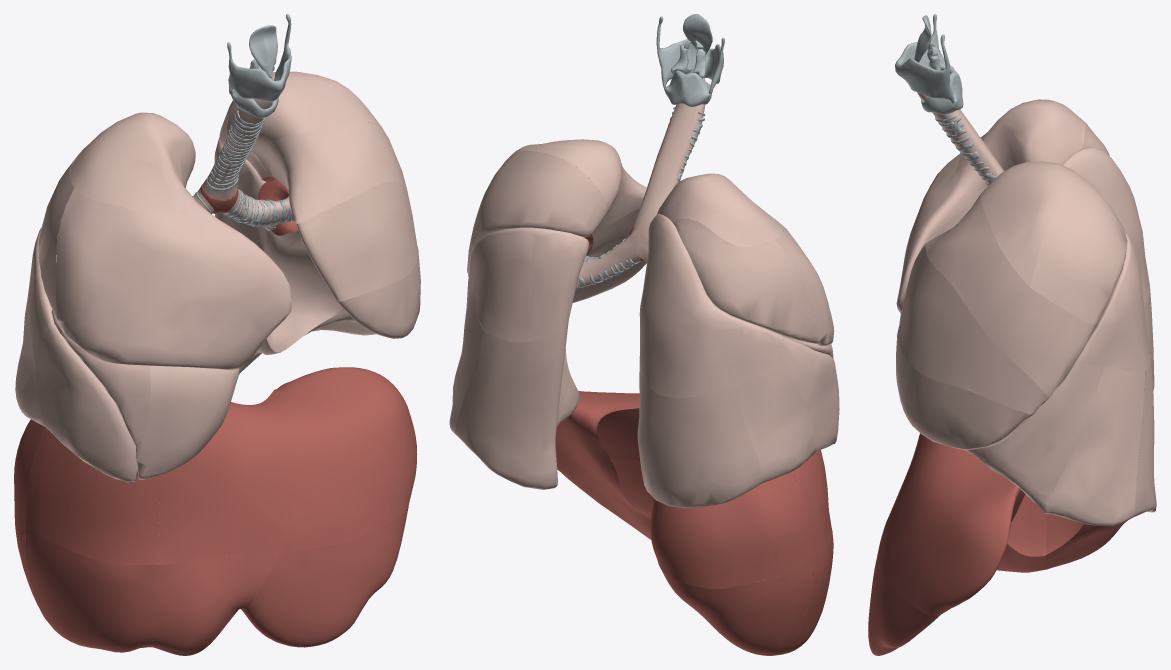
The model's file is adult_female.respiratory.LOD1.glb.
The picture shows the model from 3 angles, left to right: view 1: azimuth 30°, elevation 25°; view 2: azimuth 150°, elevation 25°; view 3: azimuth 270°, elevation 25°; orthographic projection. The views are drawn at different scales.
Parts seen in each view (by area): view 1: ADULT.FEMALE.RESPIRATORY.ANTERIOR_BRONCHOPULMONARY_SEGM.R, ADULT.FEMALE.RESPIRATORY.SUPEROMEDIAL_SEGMENT.L, ADULT.FEMALE.RESPIRATORY.SUPEROMEDIAL_SEGMENT1.L, ADULT.FEMALE.RESPIRATORY.ANTEROSUPERIOR_SEGMENT.R, ADULT.FEMALE.RESPIRATORY.ANTEROLATERAL_SEGMENT.L, ADULT.FEMALE.RESPIRATORY.ANTEROINFERIOR_SEGMENT.R, ADULT.FEMALE.RESPIRATORY.ANTERIOR_BASAL_BRONCHOPULMONARY_SEG, ADULT.FEMALE.RESPIRATORY.LINGULA_SUPERIOR_BRONCHOPULMONARY_S, ADULT.FEMALE.RESPIRATORY.APICAL_BRONCHOPULMONARY_SEGMENT.R, ADULT.FEMALE.RESPIRATORY.ANTERIOR_BRONCHOPULMONARY_SEGMENT.L, ADULT.FEMALE.RESPIRATORY.INFEROMEDIAL_SEGMENT.L, ADULT.FEMALE.RESPIRATORY.MEDIAL_BRONCHOPULMONARY_SEGMENT.R (+16 smaller); view 2: ADULT.FEMALE.RESPIRATORY.POSTERIOR_BASAL_BRONCHOPULMONARY_SE (×2), ADULT.FEMALE.RESPIRATORY.POSTERIOR_BRONCHOPULMONARY_SEGMENT. (×2), ADULT.FEMALE.RESPIRATORY.SUPERIOR_BRONCHOPULMONARY_SEGMENT.R, ADULT.FEMALE.RESPIRATORY.POSTEROSUPERIOR_SEGMENT.R, ADULT.FEMALE.RESPIRATORY.SUPERIOR_BRONCHOPULMONARY_SEGMENT.L, ADULT.FEMALE.RESPIRATORY.LATERAL_BASAL_BRONCHOPULMONARY_SEGM (×2), ADULT.FEMALE.RESPIRATORY.POSTEROINFERIOR_SEGMENT.R, ADULT.FEMALE.RESPIRATORY.SUPEROMEDIAL_SEGMENT.L, ADULT.FEMALE.RESPIRATORY.APICAL_BRONCHOPULMONARY_SEGMENT.R, ADULT.FEMALE.RESPIRATORY.ANTERIOR_BASAL_BRONCHOPULMONARY_SEG, ADULT.FEMALE.RESPIRATORY.TRACHEA, ADULT.FEMALE.RESPIRATORY.ANTEROLATERAL_SEGMENT.L (+11 smaller); view 3: ADULT.FEMALE.RESPIRATORY.SUPEROMEDIAL_SEGMENT.L, ADULT.FEMALE.RESPIRATORY.ANTERIOR_BRONCHOPULMONARY_SEGMENT.L, ADULT.FEMALE.RESPIRATORY.LINGULA_SUPERIOR_BRONCHOPULMONARY_S, ADULT.FEMALE.RESPIRATORY.LATERAL_BASAL_BRONCHOPULMONARY_SEGM, ADULT.FEMALE.RESPIRATORY.POSTERIOR_BRONCHOPULMONARY_SEGMENT., ADULT.FEMALE.RESPIRATORY.ANTERIOR_BASAL_BRONCHOPULMONARY_SEG, ADULT.FEMALE.RESPIRATORY.LINGULA_INFERIOR_BRONCHOPULMONARY_S, ADULT.FEMALE.RESPIRATORY.APICAL_BRONCHOPULMONARY_SEGMENT.L, ADULT.FEMALE.RESPIRATORY.APICAL_BRONCHOPULMONARY_SEGMENT.R, ADULT.FEMALE.RESPIRATORY.SUPERIOR_BRONCHOPULMONARY_SEGMENT.L, ADULT.FEMALE.RESPIRATORY.ANTERIOR_BRONCHOPULMONARY_SEGM.R, ADULT.FEMALE.RESPIRATORY.SUPERIOR_BRONCHOPULMONARY_SEGMENT.R (+10 smaller).
Boxes of the visible parts, x1=… form: ADULT.FEMALE.RESPIRATORY.ANTERIOR_BRONCHOPULMONARY_SEGM.R: x1=55, y1=187, x2=292, y2=369; ADULT.FEMALE.RESPIRATORY.SUPEROMEDIAL_SEGMENT.L: x1=268, y1=367, x2=417, y2=550; ADULT.FEMALE.RESPIRATORY.SUPEROMEDIAL_SEGMENT1.L: x1=156, y1=398, x2=305, y2=565; ADULT.FEMALE.RESPIRATORY.ANTEROSUPERIOR_SEGMENT.R: x1=26, y1=427, x2=159, y2=565; ADULT.FEMALE.RESPIRATORY.ANTEROLATERAL_SEGMENT.L: x1=241, y1=509, x2=407, y2=647; ADULT.FEMALE.RESPIRATORY.ANTEROINFERIOR_SEGMENT.R: x1=25, y1=524, x2=157, y2=652; ADULT.FEMALE.RESPIRATORY.ANTERIOR_BASAL_BRONCHOPULMONARY_SEG: x1=29, y1=272, x2=137, y2=482; ADULT.FEMALE.RESPIRATORY.LINGULA_SUPERIOR_BRONCHOPULMONARY_S: x1=295, y1=181, x2=418, y2=302; ADULT.FEMALE.RESPIRATORY.APICAL_BRONCHOPULMONARY_SEGMENT.R: x1=69, y1=112, x2=195, y2=214; ADULT.FEMALE.RESPIRATORY.ANTERIOR_BRONCHOPULMONARY_SEGMENT.L: x1=268, y1=122, x2=406, y2=223; ADULT.FEMALE.RESPIRATORY.INFEROMEDIAL_SEGMENT.L: x1=142, y1=550, x2=281, y2=655; ADULT.FEMALE.RESPIRATORY.MEDIAL_BRONCHOPULMONARY_SEGMENT.R: x1=135, y1=365, x2=239, y2=479; ADULT.FEMALE.RESPIRATORY.POSTERIOR_BASAL_BRONCHOPULMONARY_SE (×2): x1=455, y1=320, x2=762, y2=507; ADULT.FEMALE.RESPIRATORY.POSTERIOR_BRONCHOPULMONARY_SEGMENT. (×2): x1=472, y1=150, x2=820, y2=343; ADULT.FEMALE.RESPIRATORY.SUPERIOR_BRONCHOPULMONARY_SEGMENT.R: x1=639, y1=214, x2=783, y2=397; ADULT.FEMALE.RESPIRATORY.POSTEROSUPERIOR_SEGMENT.R: x1=650, y1=472, x2=812, y2=588; ADULT.FEMALE.RESPIRATORY.SUPERIOR_BRONCHOPULMONARY_SEGMENT.L: x1=469, y1=227, x2=589, y2=341; ADULT.FEMALE.RESPIRATORY.LATERAL_BASAL_BRONCHOPULMONARY_SEGM (×2): x1=449, y1=291, x2=816, y2=484; ADULT.FEMALE.RESPIRATORY.POSTEROINFERIOR_SEGMENT.R: x1=660, y1=558, x2=813, y2=655; ADULT.FEMALE.RESPIRATORY.SUPEROMEDIAL_SEGMENT.L: x1=555, y1=391, x2=640, y2=506; ADULT.FEMALE.RESPIRATORY.APICAL_BRONCHOPULMONARY_SEGMENT.R: x1=656, y1=173, x2=782, y2=246; ADULT.FEMALE.RESPIRATORY.ANTERIOR_BASAL_BRONCHOPULMONARY_SEG: x1=737, y1=336, x2=839, y2=452; ADULT.FEMALE.RESPIRATORY.TRACHEA: x1=631, y1=78, x2=705, y2=261; ADULT.FEMALE.RESPIRATORY.ANTEROLATERAL_SEGMENT.L: x1=561, y1=460, x2=653, y2=539; ADULT.FEMALE.RESPIRATORY.SUPEROMEDIAL_SEGMENT.L: x1=879, y1=449, x2=1024, y2=616; ADULT.FEMALE.RESPIRATORY.ANTERIOR_BRONCHOPULMONARY_SEGMENT.L: x1=925, y1=193, x2=1096, y2=397; ADULT.FEMALE.RESPIRATORY.LINGULA_SUPERIOR_BRONCHOPULMONARY_S: x1=897, y1=244, x2=1048, y2=414; ADULT.FEMALE.RESPIRATORY.LATERAL_BASAL_BRONCHOPULMONARY_SEGM: x1=1045, y1=367, x2=1144, y2=526; ADULT.FEMALE.RESPIRATORY.POSTERIOR_BRONCHOPULMONARY_SEGMENT.: x1=1030, y1=171, x2=1127, y2=324; ADULT.FEMALE.RESPIRATORY.ANTERIOR_BASAL_BRONCHOPULMONARY_SEG: x1=965, y1=362, x2=1103, y2=512; ADULT.FEMALE.RESPIRATORY.LINGULA_INFERIOR_BRONCHOPULMONARY_S: x1=896, y1=337, x2=1032, y2=450; ADULT.FEMALE.RESPIRATORY.APICAL_BRONCHOPULMONARY_SEGMENT.L: x1=980, y1=161, x2=1074, y2=286; ADULT.FEMALE.RESPIRATORY.APICAL_BRONCHOPULMONARY_SEGMENT.R: x1=958, y1=99, x2=1086, y2=170; ADULT.FEMALE.RESPIRATORY.SUPERIOR_BRONCHOPULMONARY_SEGMENT.L: x1=1075, y1=231, x2=1150, y2=372; ADULT.FEMALE.RESPIRATORY.ANTERIOR_BRONCHOPULMONARY_SEGM.R: x1=896, y1=153, x2=987, y2=314; ADULT.FEMALE.RESPIRATORY.SUPERIOR_BRONCHOPULMONARY_SEGMENT.R: x1=1062, y1=147, x2=1150, y2=303.
Size of the model in its own units: 0.2554 by 0.4012 by 0.1689.
